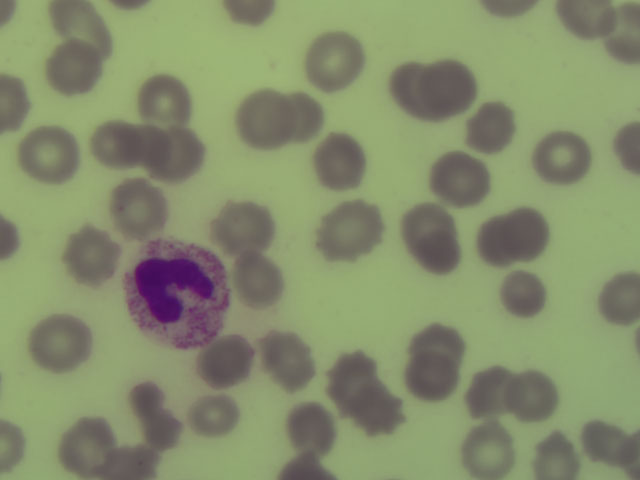RBC: (47, 2, 121, 55), (38, 309, 93, 376), (110, 179, 171, 238), (327, 205, 386, 261), (64, 226, 116, 285), (433, 149, 489, 203), (24, 127, 81, 180), (62, 419, 116, 474), (462, 428, 519, 478), (538, 132, 590, 185), (404, 356, 461, 403), (49, 43, 101, 94), (429, 59, 476, 115), (212, 209, 274, 251), (407, 322, 466, 366), (240, 94, 288, 147), (359, 384, 405, 439), (237, 250, 284, 303), (311, 34, 357, 88), (404, 199, 459, 244), (169, 125, 209, 186), (555, 1, 616, 41), (499, 273, 549, 320), (286, 405, 333, 455), (412, 235, 465, 279), (285, 84, 323, 145), (316, 139, 364, 187), (142, 80, 194, 124), (333, 351, 373, 408), (509, 208, 553, 259), (507, 376, 558, 419), (129, 118, 167, 174), (92, 123, 134, 172), (600, 272, 640, 322), (537, 430, 579, 476), (476, 101, 512, 151), (1, 72, 30, 134), (278, 453, 344, 480), (469, 371, 508, 416), (584, 420, 622, 464), (272, 355, 317, 392), (188, 401, 235, 436), (480, 218, 511, 268), (613, 7, 640, 61), (112, 448, 160, 478), (609, 125, 640, 171), (1, 421, 29, 471), (226, 1, 275, 29), (261, 335, 304, 363), (148, 413, 182, 446), (395, 63, 421, 106), (127, 384, 161, 414), (479, 1, 541, 16), (1, 218, 22, 259), (630, 423, 640, 478), (109, 1, 145, 10), (4, 1, 16, 26)
WBC: (122, 243, 230, 346)
